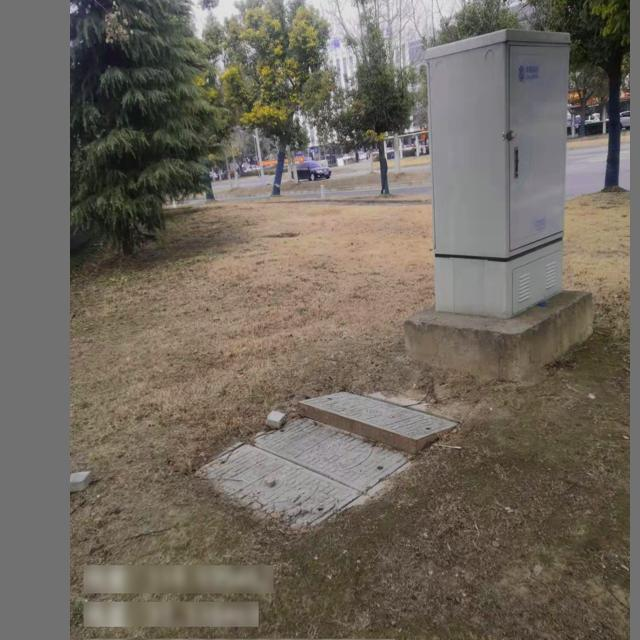uncovered: (189, 387, 458, 540)
